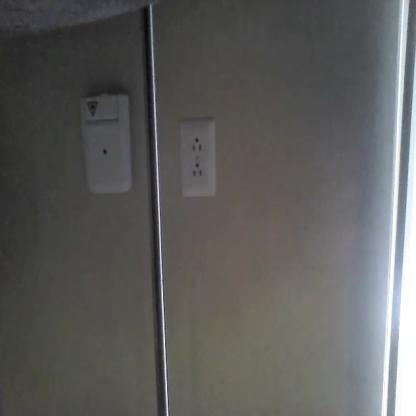OUTLET: (180, 120, 216, 198)
